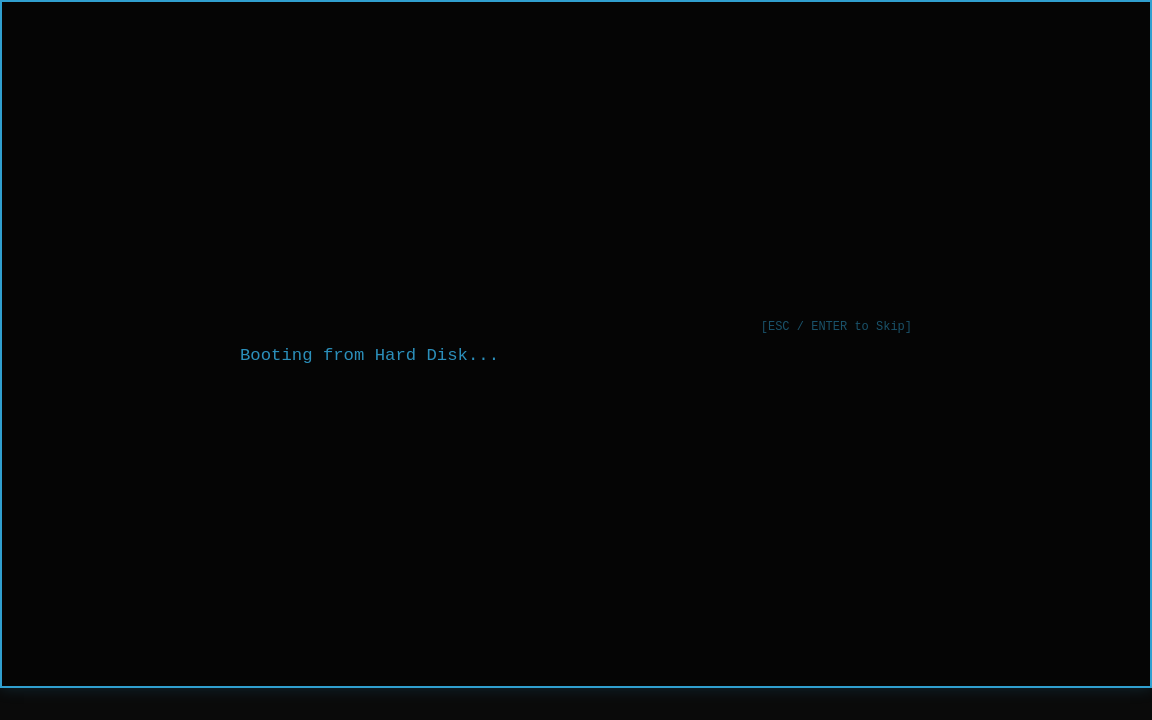
Test: TerminalLayout Component › allows clicking a command to execute it
# Skip boot sequence to running
Press Escape
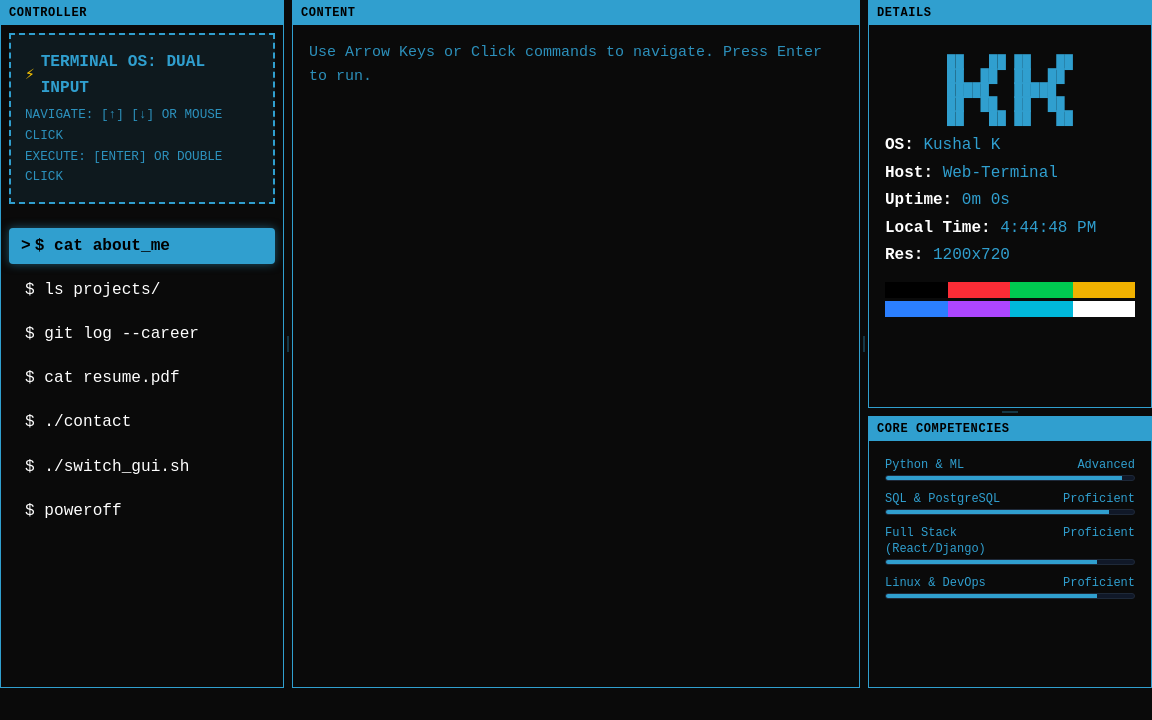
Click the button with aria-label "Execute $ ls projects/".
click(142, 290)  # box [9,272,275,308]
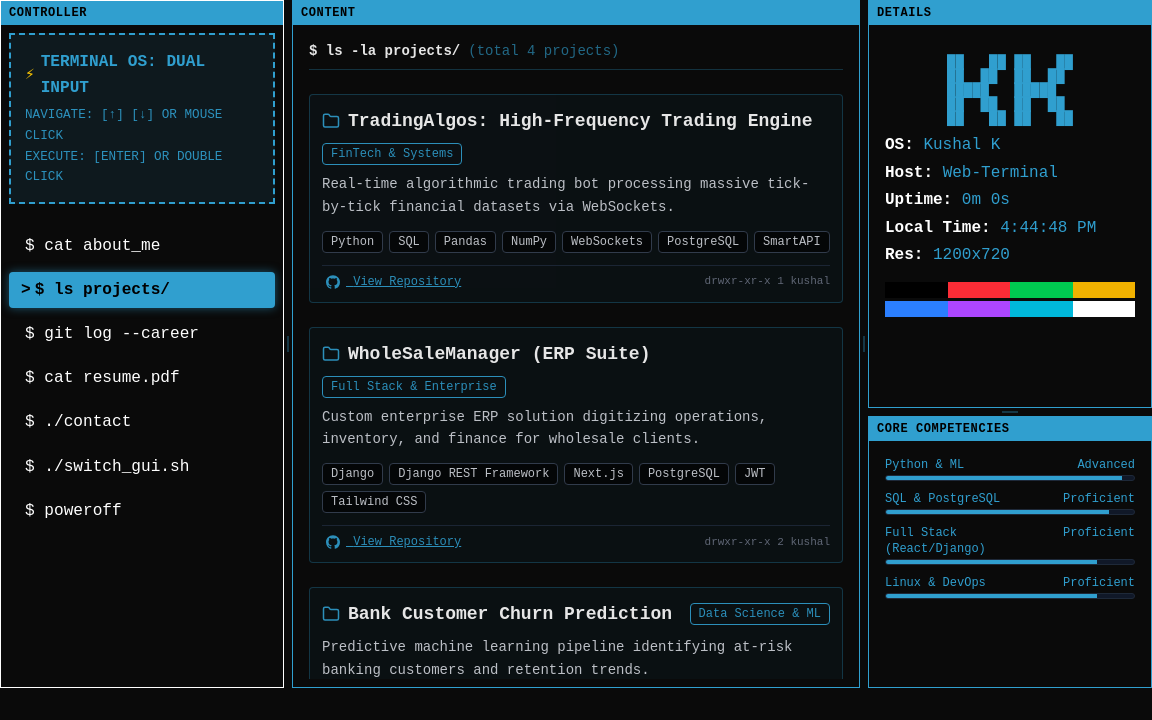
Check: the text "$ ls -la projects/" is shown, box [309,43,460,59]
Check: the heading "TradingAlgos: High-Frequency Trading Engine" is shown, box [348,107,812,135]
